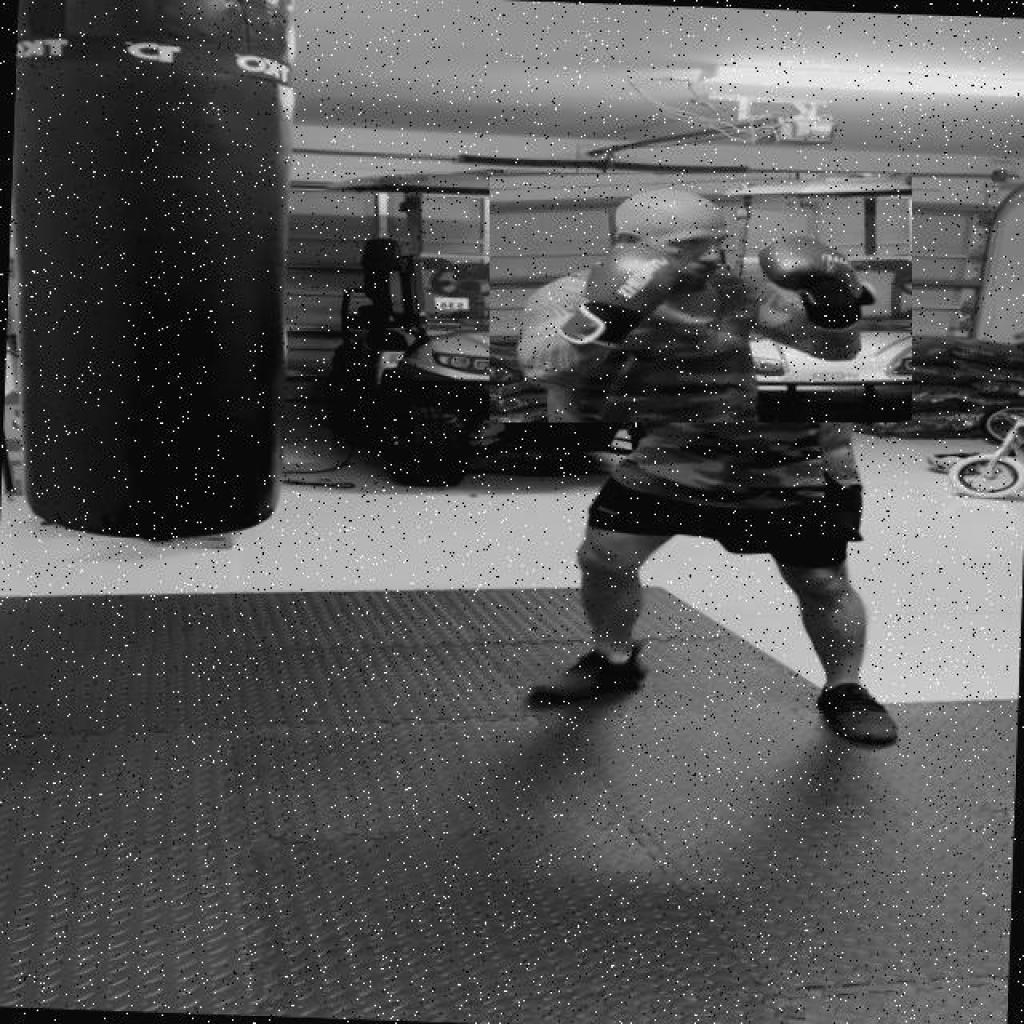bag: (4, 2, 318, 556)
no punch: (490, 173, 911, 423)
